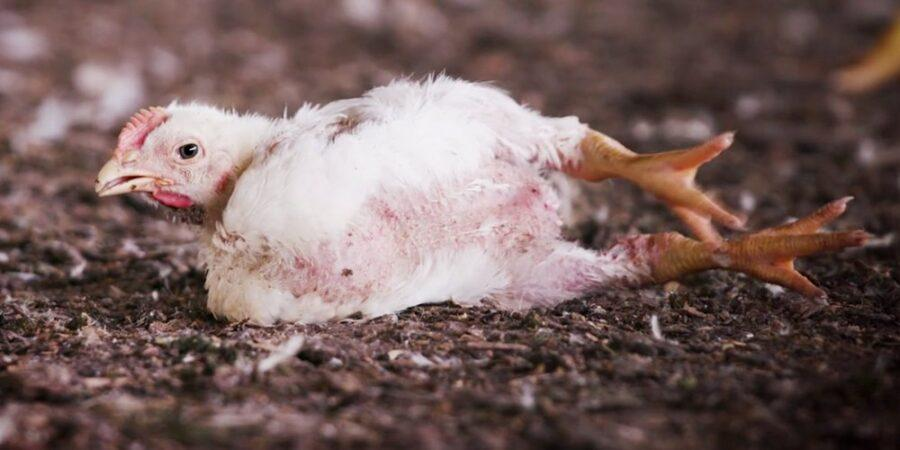AbNormal: (91, 72, 873, 332)
